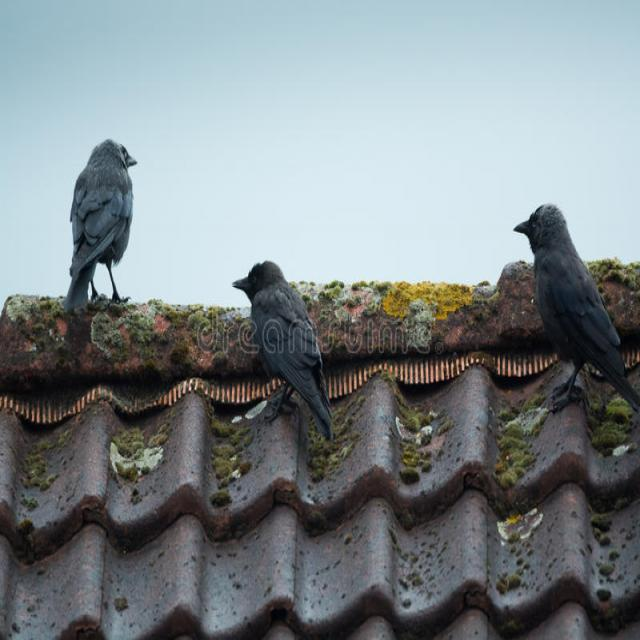bird: (512, 202, 640, 418), (231, 259, 335, 443), (63, 138, 138, 313)
